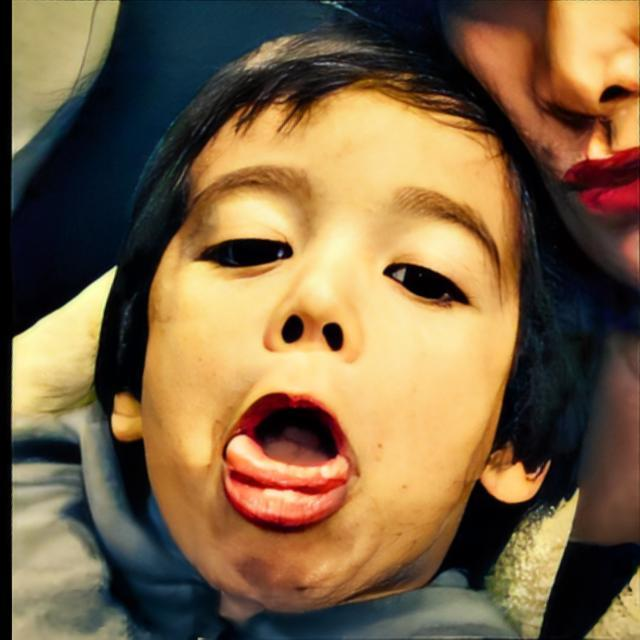surprise: (140, 61, 523, 616)
